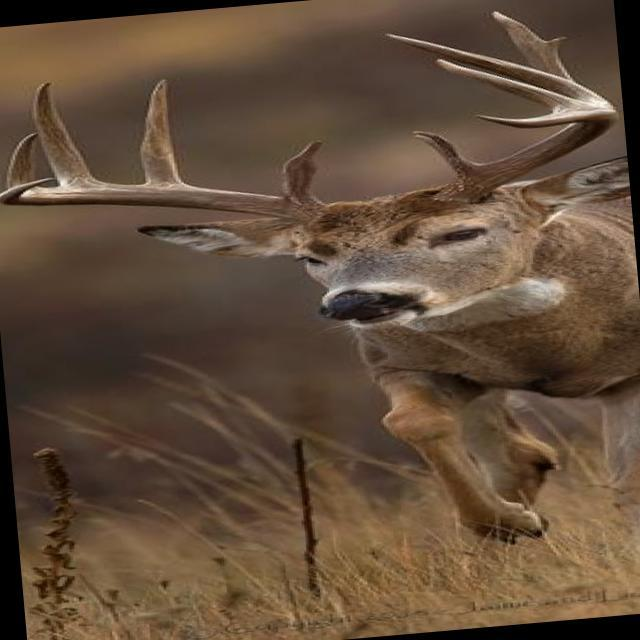L-F: (433, 106, 619, 203)
L-G1: (406, 129, 484, 179)
L-G3: (378, 31, 614, 106)
L-G4: (432, 58, 601, 115)
R-F: (0, 177, 327, 224)
R-G1: (280, 138, 327, 199)
R-G2: (138, 77, 193, 185)
R-G3: (29, 80, 115, 186)
